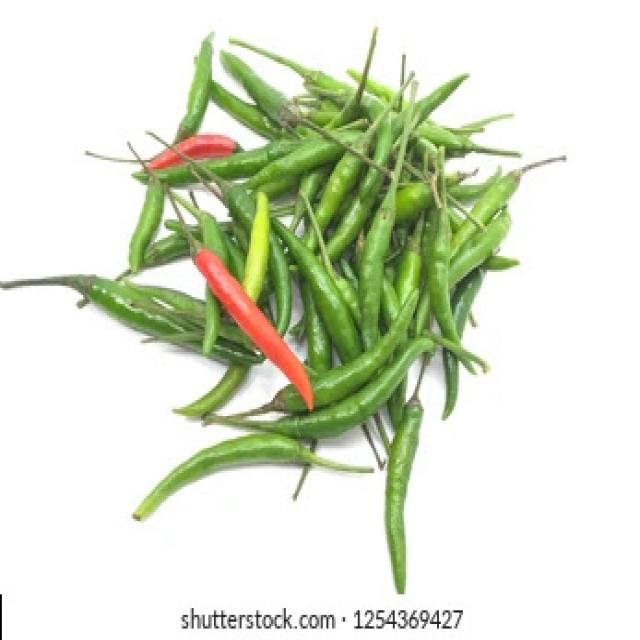green chilli: (218, 341, 433, 440), (133, 434, 374, 520), (194, 249, 314, 410), (360, 89, 416, 349), (274, 219, 363, 362), (315, 291, 421, 408), (387, 400, 424, 593), (247, 137, 345, 189), (245, 386, 306, 417)
